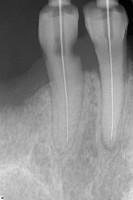Furcation Involvement: (100, 133, 118, 152)
